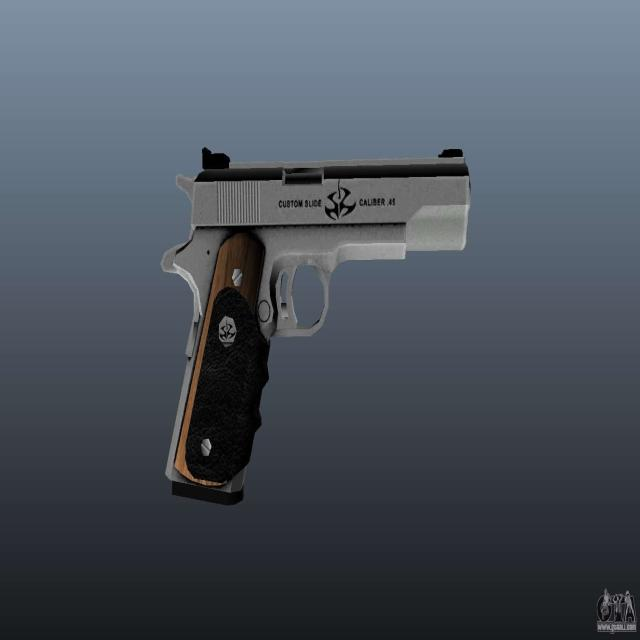handgun: (160, 141, 472, 506)
